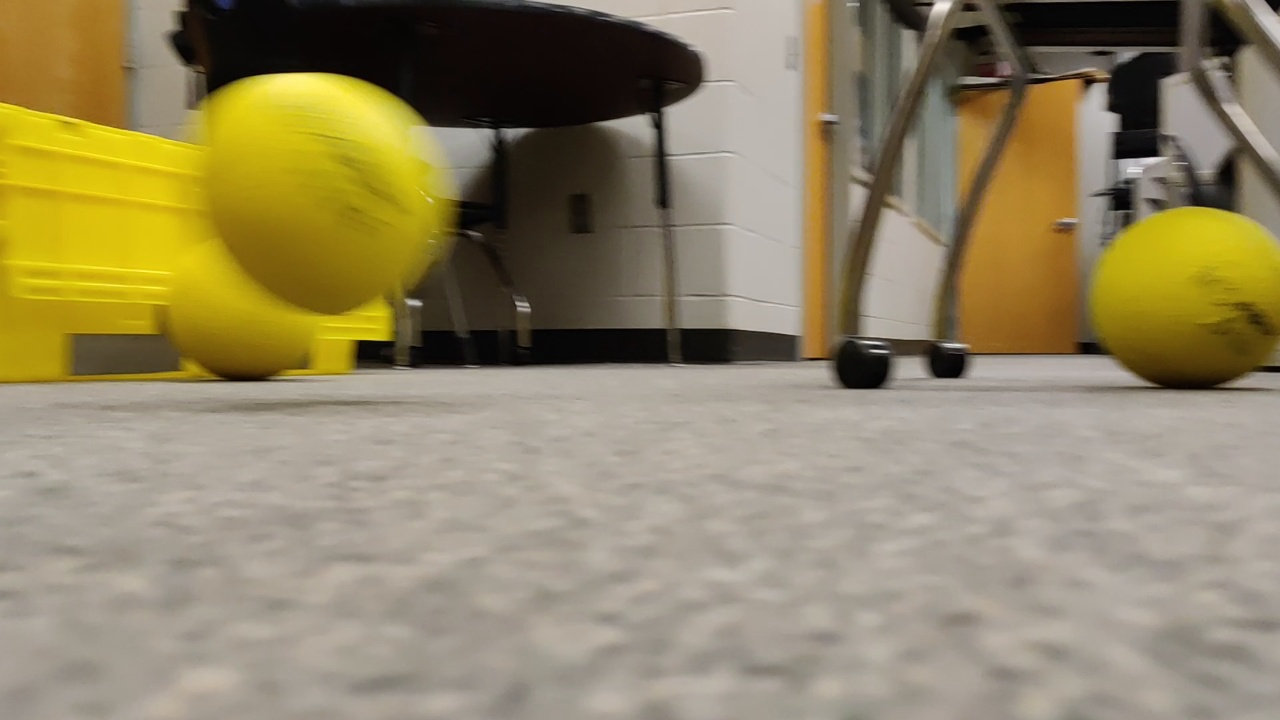Ball: (211, 82, 444, 302), (1096, 209, 1275, 390), (169, 250, 311, 388)
